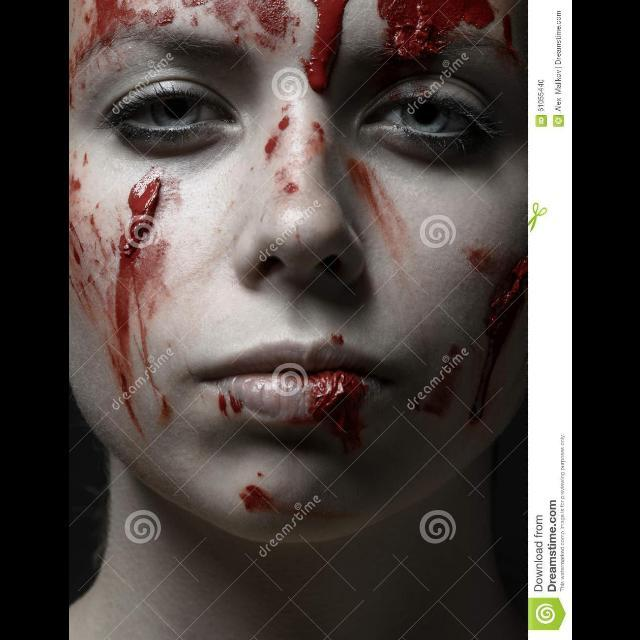blood: (68, 0, 349, 454), (213, 330, 372, 540), (406, 237, 528, 424), (340, 154, 439, 302), (252, 100, 326, 201), (377, 0, 495, 59), (304, 0, 347, 92), (503, 14, 518, 56)
